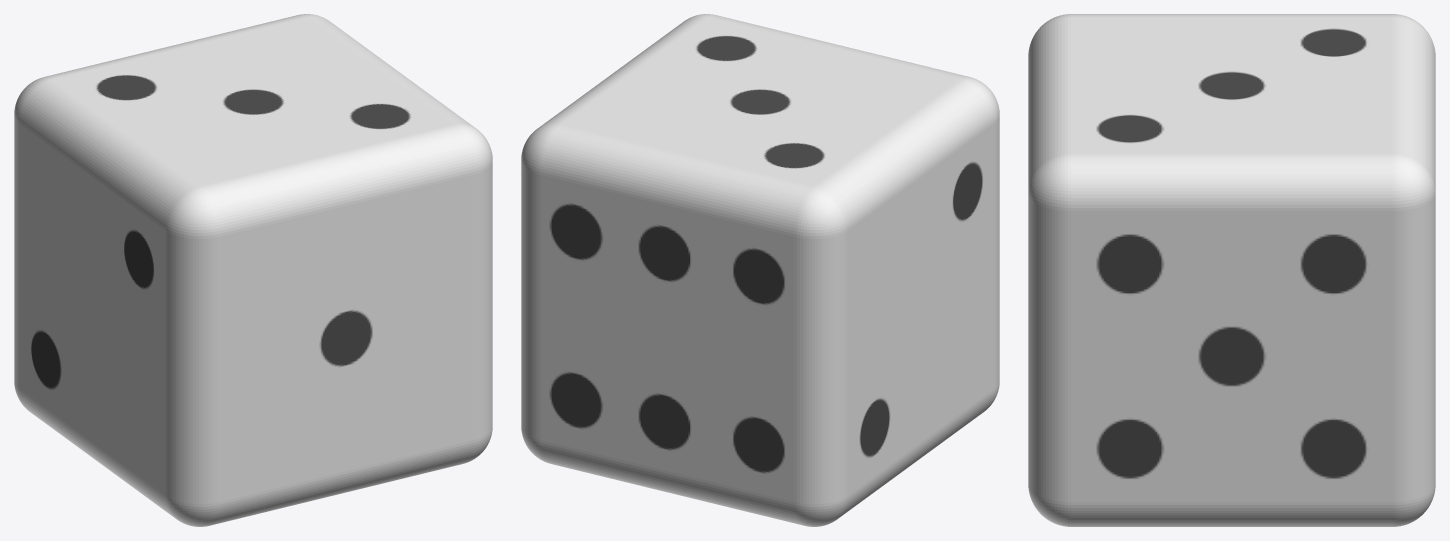
File: die.obj
The picture shows the model from 3 angles, left to right: view 1: azimuth 30°, elevation 25°; view 2: azimuth 150°, elevation 25°; view 3: azimuth 270°, elevation 25°; orthographic projection. The views are drawn at different scales.
Parts seen in each view (by area): view 1: Cube.001; view 2: Cube.001; view 3: Cube.001.
Part boxes in pixels (x1,y1,x2,y2): Cube.001: (14,14,492,526); Cube.001: (521,14,999,526); Cube.001: (1028,14,1435,526).
Size of the model in its own units: 2 by 2 by 2.
1 material, 1 textured.
